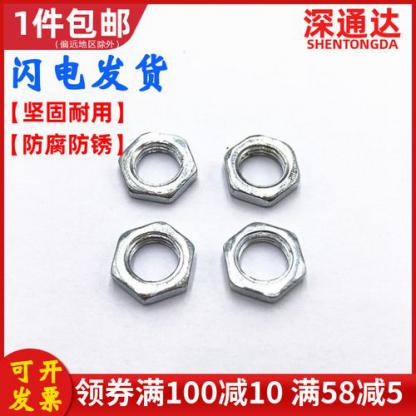FOD: (106, 220, 198, 307), (219, 219, 308, 301), (118, 127, 198, 206), (223, 132, 302, 209)
